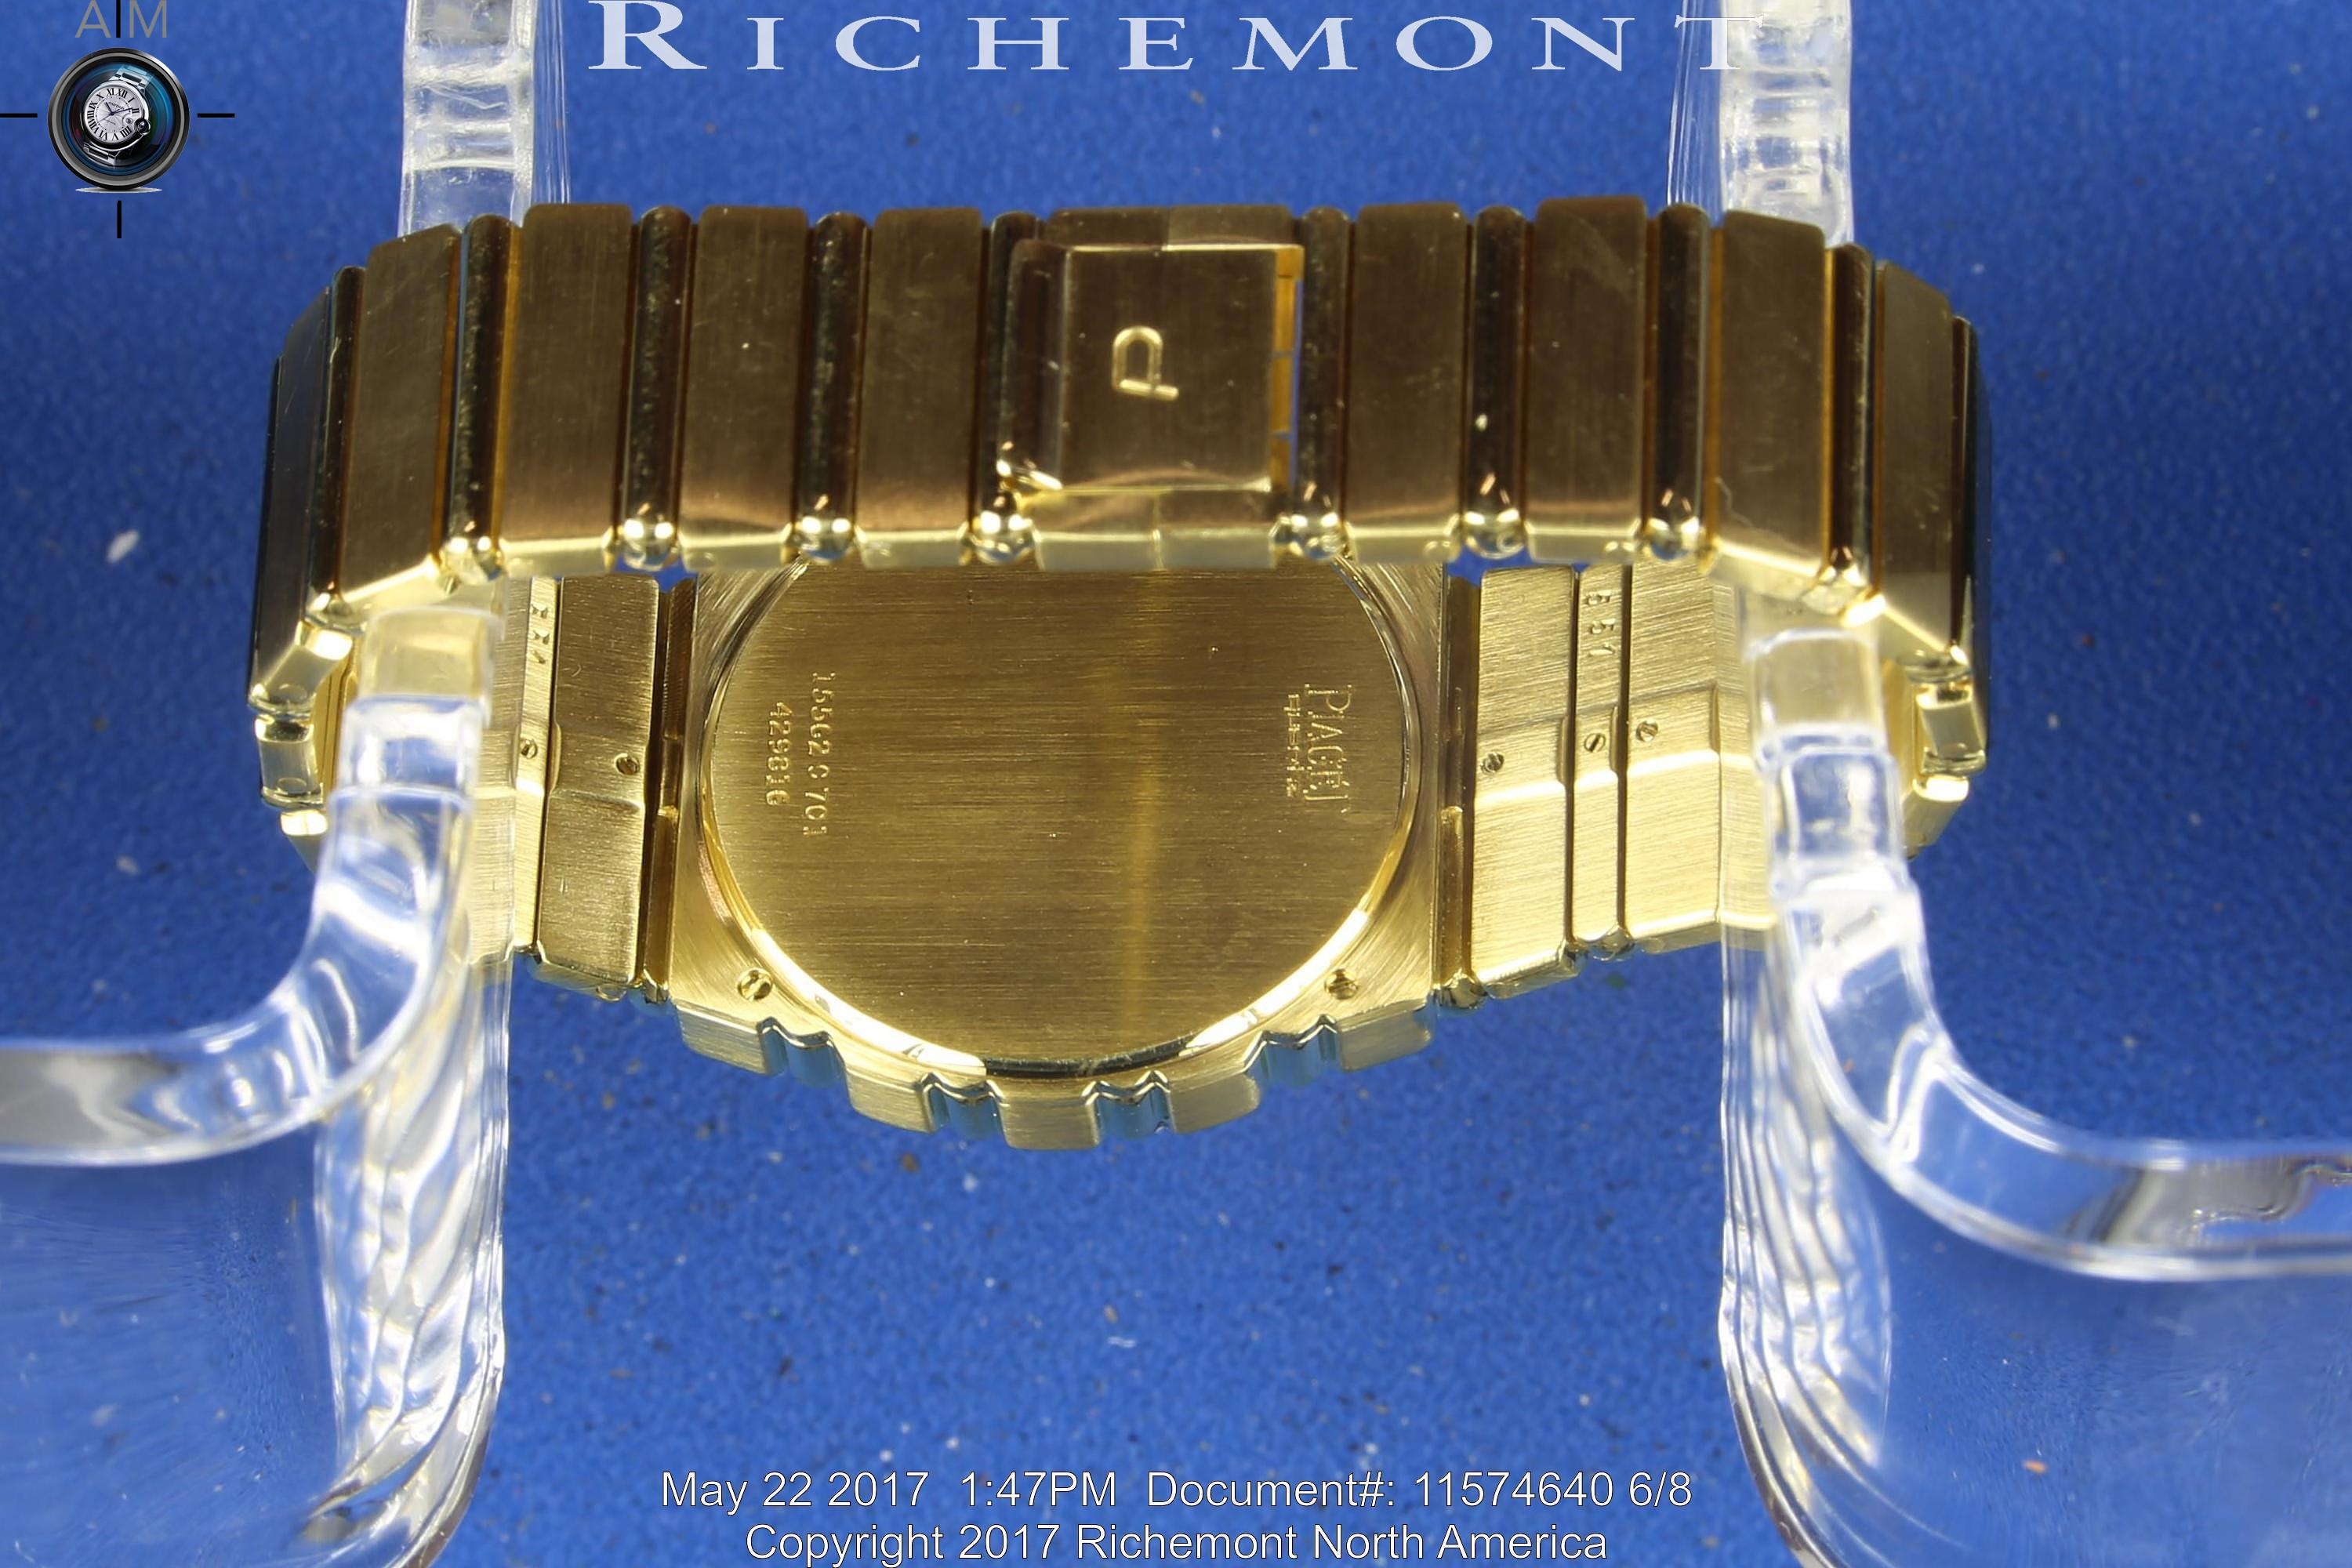Watch BackCase: (702, 572, 1453, 1164)
